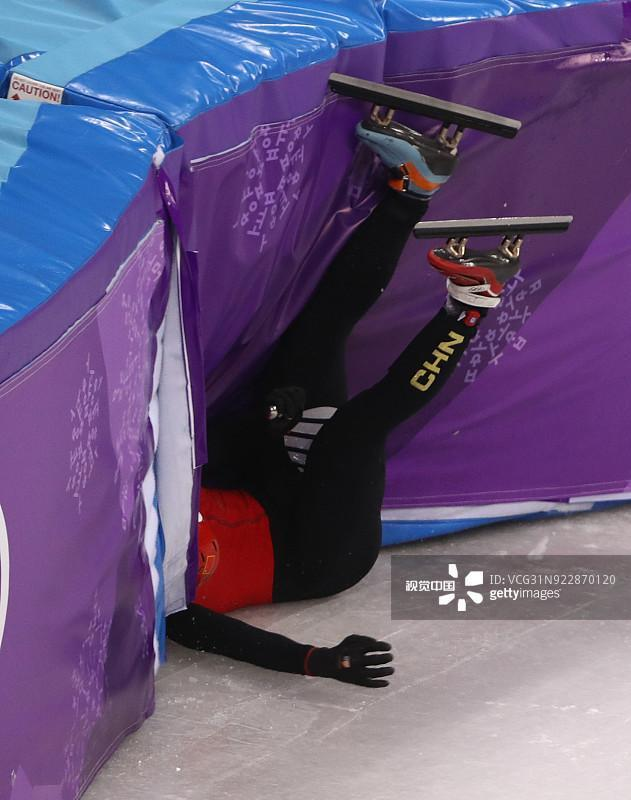Fall-Detected: (29, 26, 588, 698)
